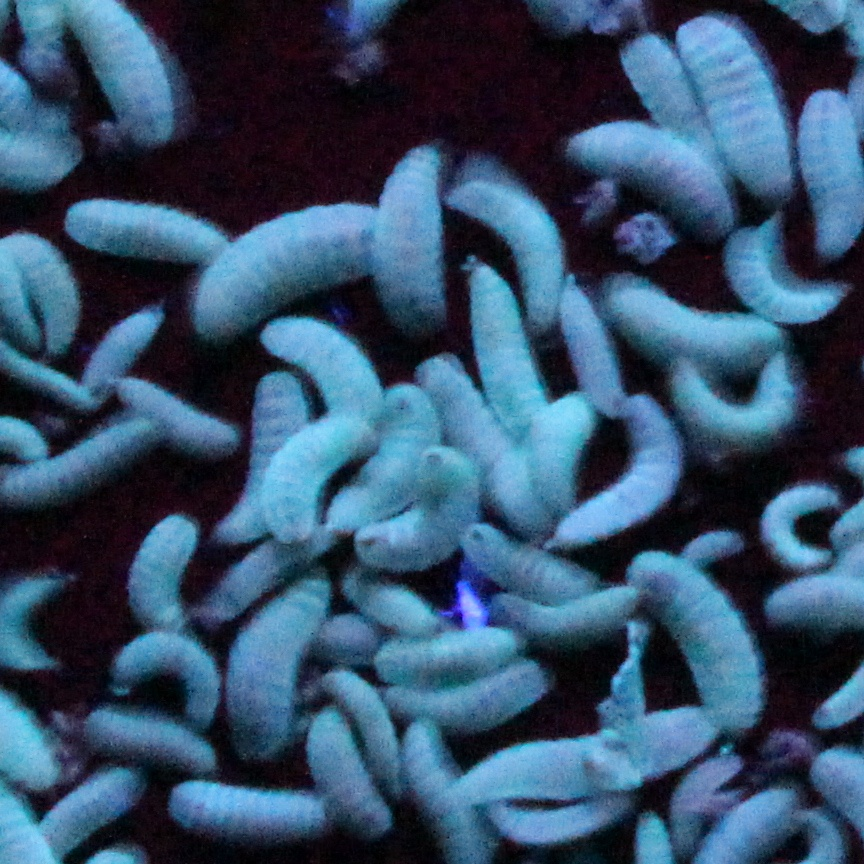larve: (186, 200, 392, 337), (633, 544, 766, 739), (453, 706, 726, 800), (550, 390, 686, 552), (679, 15, 793, 204), (226, 570, 333, 770), (440, 167, 568, 334), (563, 119, 739, 237), (616, 30, 737, 194), (323, 385, 443, 544), (462, 257, 552, 456), (611, 274, 788, 374), (220, 377, 312, 544), (356, 452, 478, 576), (260, 316, 388, 429), (373, 146, 449, 334), (424, 359, 523, 495), (59, 197, 236, 265), (168, 777, 338, 846), (381, 657, 551, 726), (320, 668, 410, 798), (306, 706, 397, 834), (731, 226, 846, 324), (207, 532, 328, 624), (370, 619, 532, 687), (464, 528, 607, 605), (672, 362, 799, 448), (108, 630, 222, 723), (119, 375, 243, 457), (561, 277, 633, 417), (478, 798, 657, 852), (31, 769, 142, 856), (129, 507, 199, 640), (523, 394, 591, 527), (82, 710, 219, 765), (762, 484, 837, 566), (347, 570, 443, 633), (86, 315, 157, 396), (682, 532, 744, 563)
